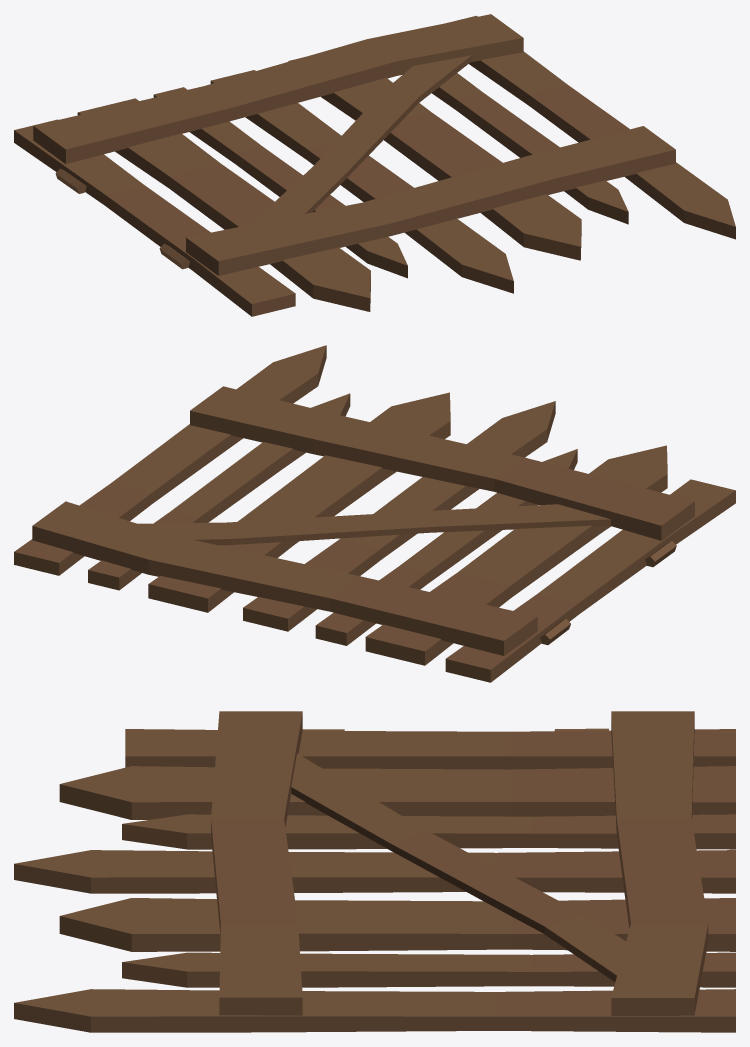
File: Barrier_01_Left_portion.fbx
3 views of the same model, one above another, from view 1: azimuth 30°, elevation 25°; view 2: azimuth 150°, elevation 25°; view 3: azimuth 270°, elevation 25° (orthographic). The views are drawn at different scales.
Visible parts, largest first — view 1: barriere_1.bord gauche portillon; view 2: barriere_1.bord gauche portillon; view 3: barriere_1.bord gauche portillon.
Boxes of the visible parts, x1=… form: barriere_1.bord gauche portillon: x1=14, y1=14, x2=735, y2=316; barriere_1.bord gauche portillon: x1=14, y1=345, x2=735, y2=682; barriere_1.bord gauche portillon: x1=14, y1=711, x2=735, y2=1032.
Bounding box in the file's own units: 102 × 5.78 × 105.
